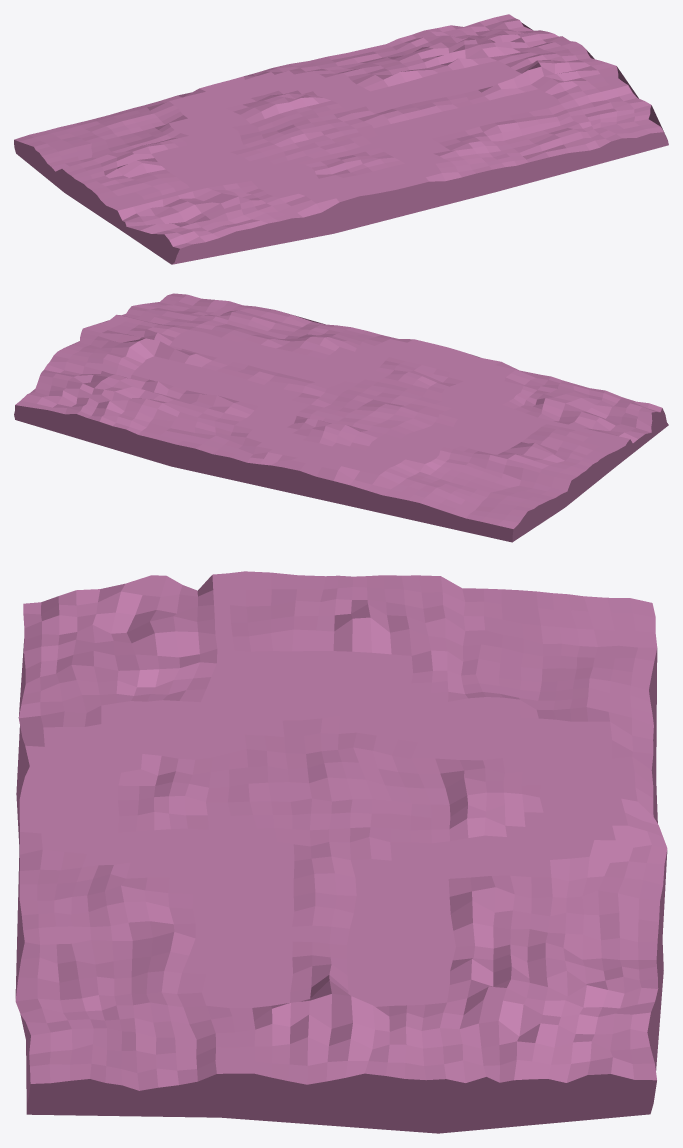
Rendered from zemn7 (1).fbx.
The picture shows the model from 3 angles, top to bottom: view 1: azimuth 30°, elevation 25°; view 2: azimuth 150°, elevation 25°; view 3: azimuth 270°, elevation 25°; orthographic projection. The views are drawn at different scales.
Visible parts, largest first — view 1: Plane.021; view 2: Plane.021; view 3: Plane.021.
Part boxes in pixels (<box>): Plane.021: <box>14,14,668,264</box>; Plane.021: <box>14,293,668,542</box>; Plane.021: <box>15,571,667,1133</box>.
Bounding box in the file's own units: 5411 × 416 × 2888.
